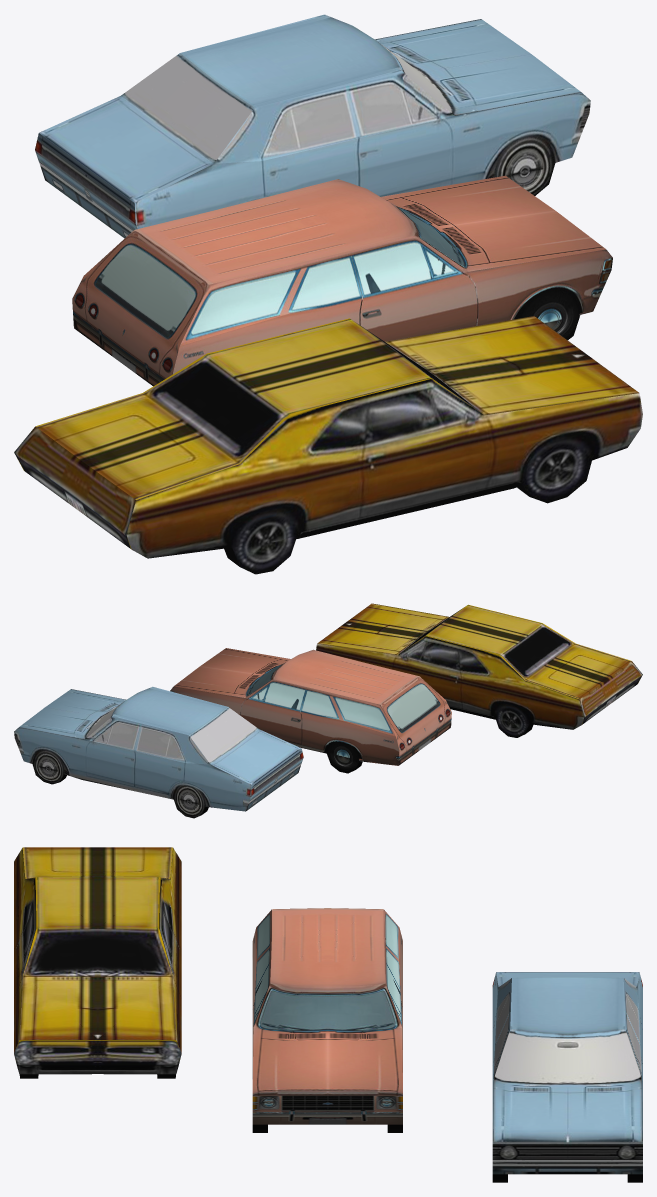
The model's file is car_pack1_BG 1.fbx.
The picture shows the model from 3 angles, top to bottom: view 1: azimuth 30°, elevation 25°; view 2: azimuth 150°, elevation 25°; view 3: azimuth 270°, elevation 25°; orthographic projection. The views are drawn at different scales.
Visible parts, largest first — view 1: pontiac_gto_bg, chevrolet_opala_bg, chevrolet_wagon_bg; view 2: chevrolet_opala_bg, pontiac_gto_bg, chevrolet_wagon_bg; view 3: pontiac_gto_bg, chevrolet_wagon_bg, chevrolet_opala_bg.
Part boxes in pixels (x1=…): pontiac_gto_bg: x1=14, y1=316, x2=642, y2=574; chevrolet_opala_bg: x1=35, y1=14, x2=590, y2=238; chevrolet_wagon_bg: x1=72, y1=175, x2=612, y2=386; chevrolet_opala_bg: x1=14, y1=686, x2=303, y2=818; pontiac_gto_bg: x1=316, y1=603, x2=642, y2=737; chevrolet_wagon_bg: x1=170, y1=648, x2=451, y2=773; pontiac_gto_bg: x1=14, y1=847, x2=181, y2=1078; chevrolet_wagon_bg: x1=252, y1=908, x2=402, y2=1132; chevrolet_opala_bg: x1=492, y1=972, x2=642, y2=1182.
Bounding box in the file's own units: 792 × 143 × 737.
